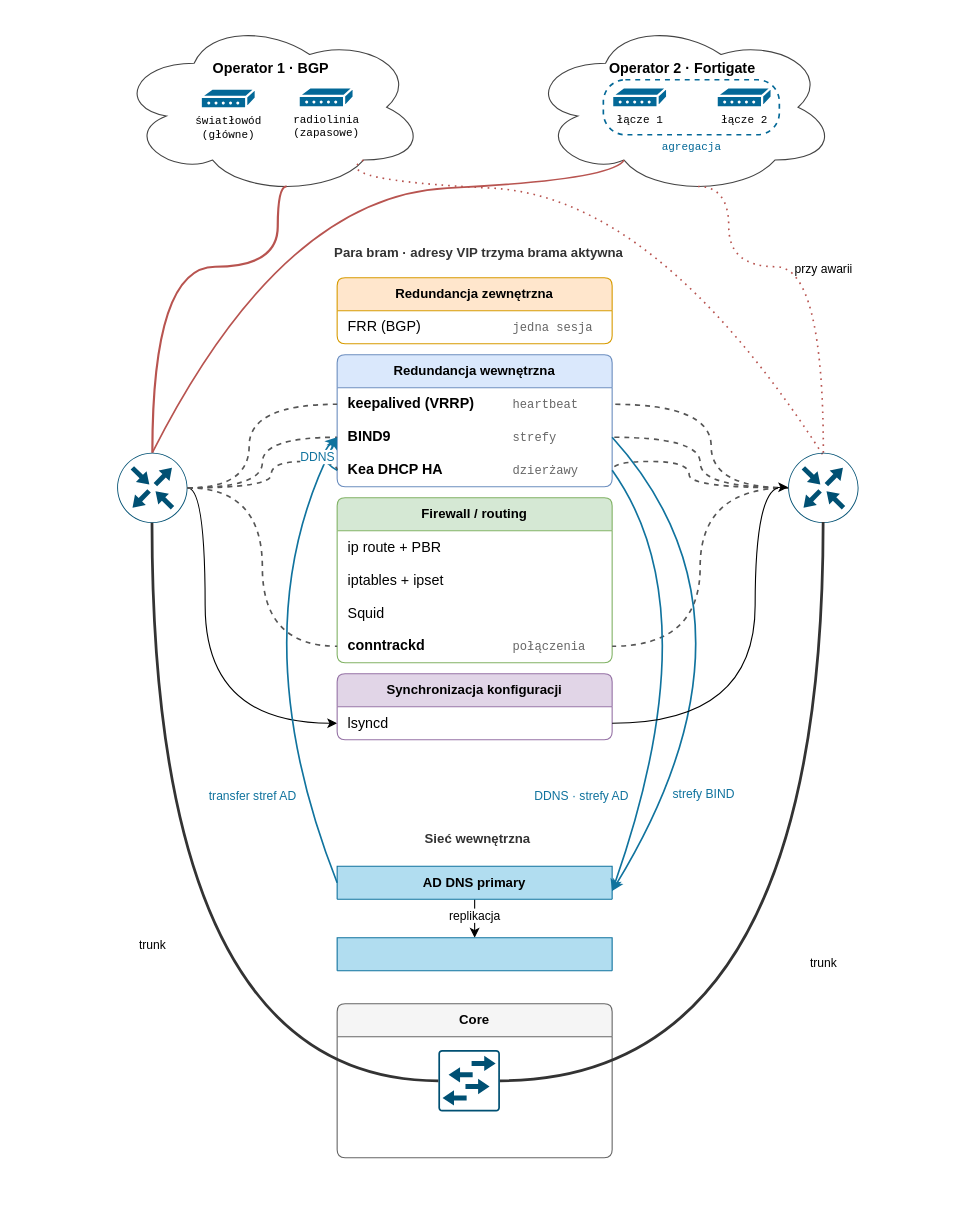
Some shapes in this 975 by 1216 pixel diagram are drawn without their labels. The centre of each missing label's shape, as x and y in pixels:
AD DNS secondary: (x=474, y=954)
gw-01 MASTER · 200: (x=152, y=487)
gw-02 BACKUP · 150: (x=823, y=487)
przełącznik szkieletowy ~50 VLAN-ów: LAN, DMZ, VPN: (x=468, y=1080)
